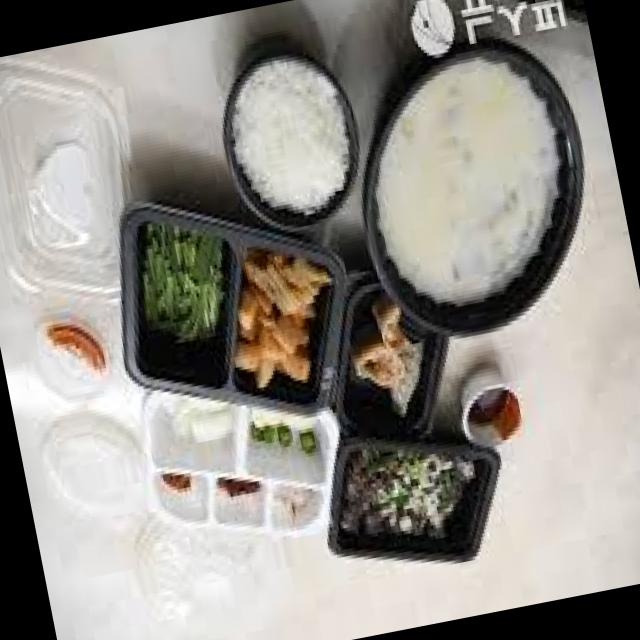plastic-bowl: (360, 21, 590, 349), (120, 196, 356, 427), (0, 57, 135, 321), (143, 371, 338, 536), (215, 49, 365, 233), (326, 424, 507, 566), (333, 270, 461, 454), (127, 526, 303, 639), (38, 411, 145, 527), (17, 311, 125, 413), (452, 360, 534, 460)
